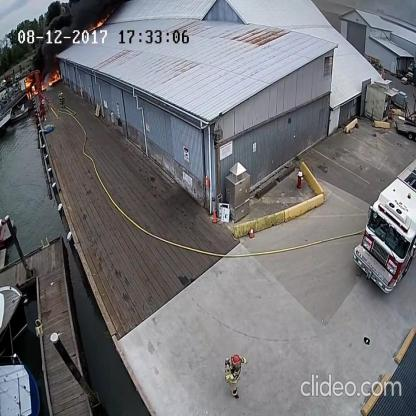fire: (42, 64, 62, 93), (22, 74, 38, 101), (88, 9, 107, 31)
